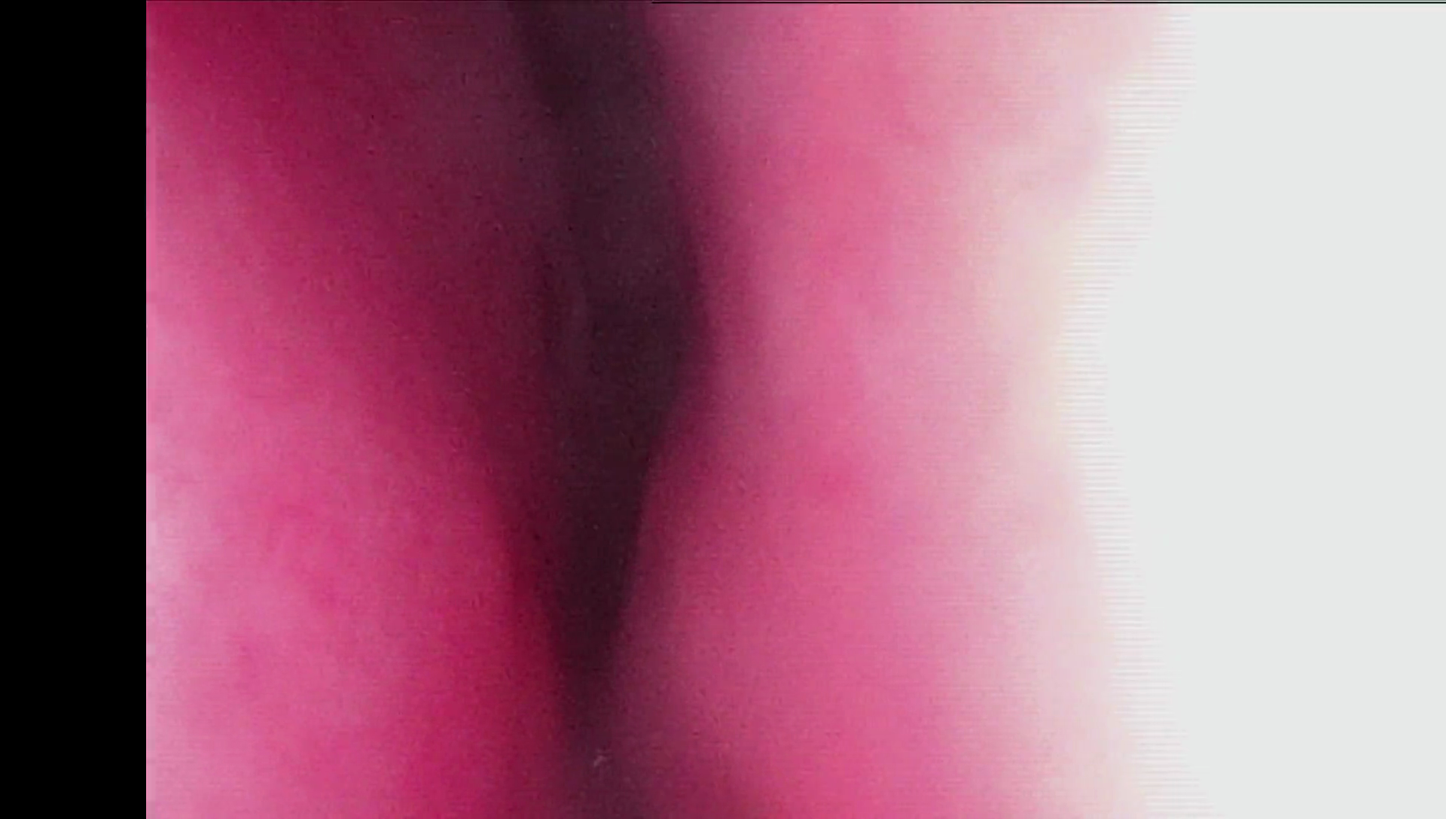close_wall: (827, 7, 1446, 819), (152, 305, 408, 819)
next: (505, 139, 773, 715)
